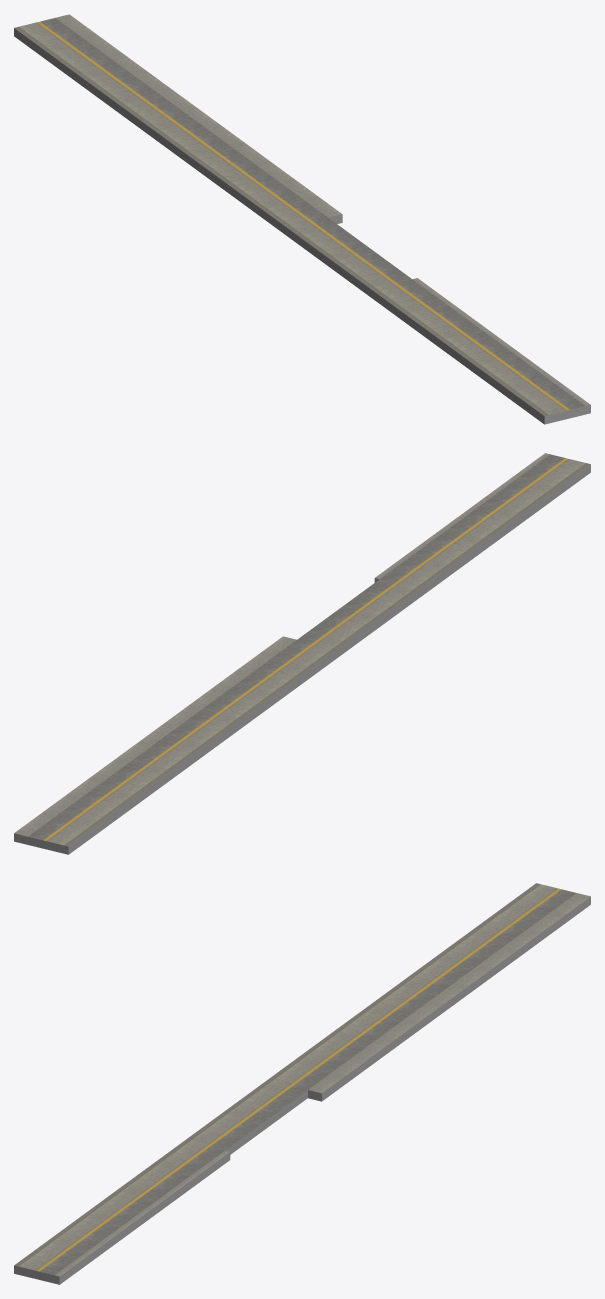
Rendered from plat.fbx.
3 renders of one model, top to bottom at view 1: azimuth 30°, elevation 25°; view 2: azimuth 150°, elevation 25°; view 3: azimuth 330°, elevation 25°, orthographic.
Visible parts, largest first — view 1: pCube444; view 2: pCube444; view 3: pCube444.
Boxes of the visible parts, <box> form: pCube444: <box>14,14,590,424</box>; pCube444: <box>14,453,590,854</box>; pCube444: <box>14,883,590,1284</box>.
Size of the model in its own units: 1122 by 162 by 18575.
2 materials, 1 textured.
